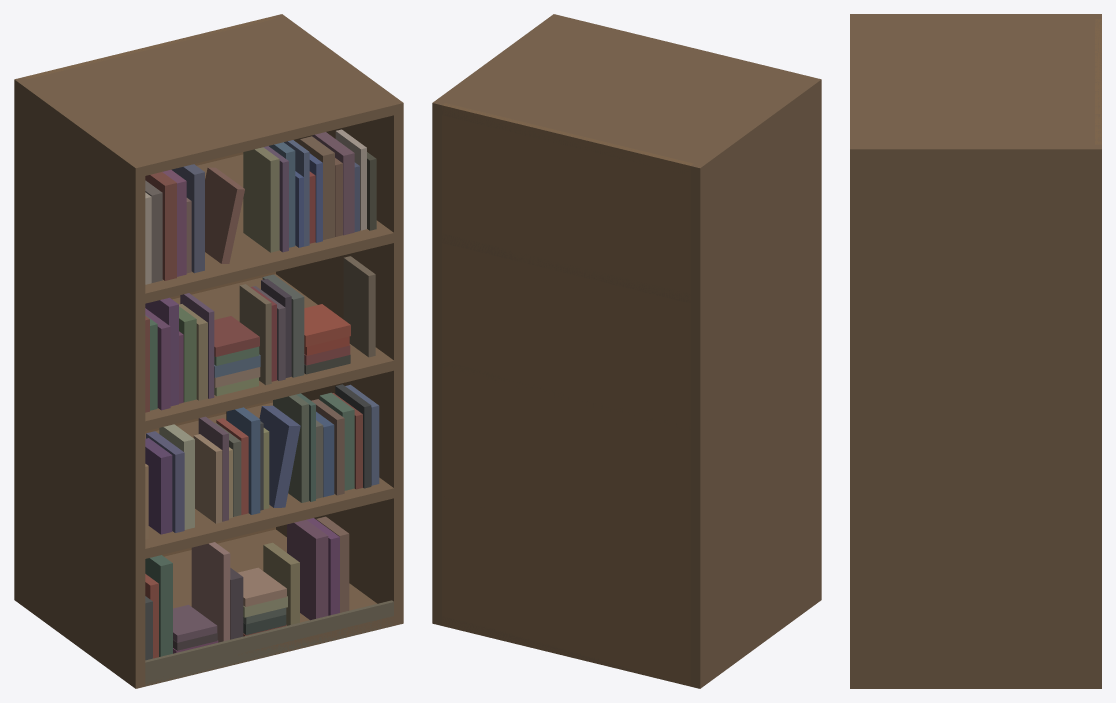
Rendered from estante-2.glb.
3 renders of one model, left to right at view 1: azimuth 30°, elevation 25°; view 2: azimuth 150°, elevation 25°; view 3: azimuth 270°, elevation 25°, orthographic. The views are drawn at different scales.
Visible parts, largest first — view 1: estante; view 2: estante; view 3: estante.
Part boxes in pixels (bbox=[...]): estante: bbox=[14, 14, 403, 688]; estante: bbox=[432, 14, 821, 688]; estante: bbox=[850, 14, 1101, 688].
Bounding box in the file's own units: 1.4 × 2.6 × 1.1.
